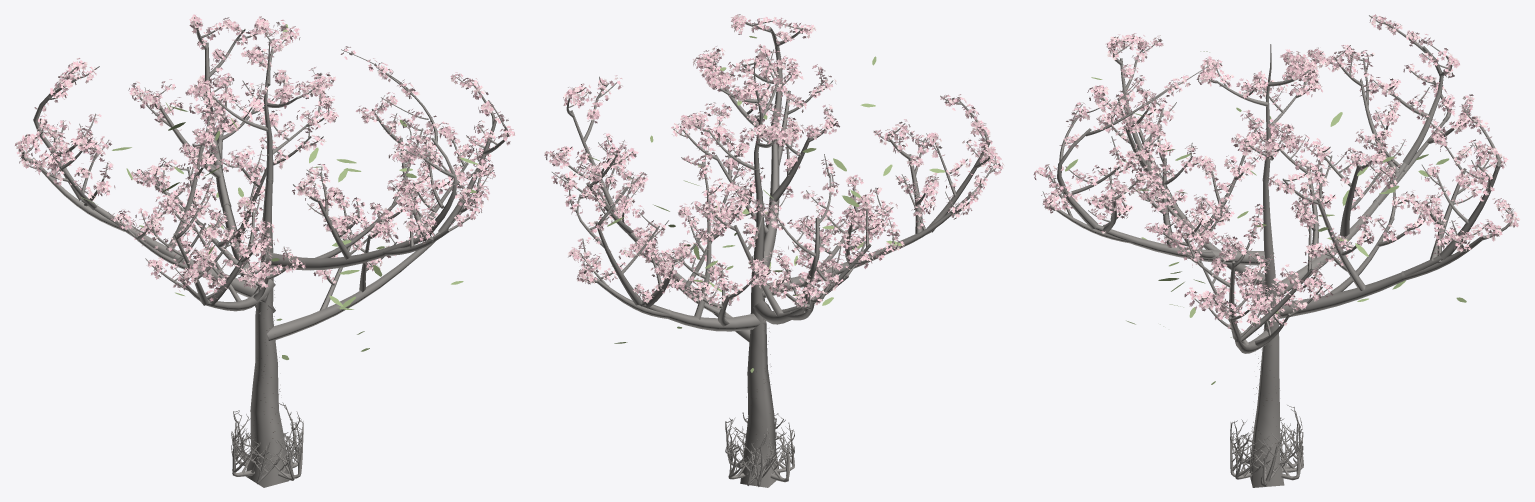
Rendered from akebono_01.glb.
The picture shows the model from 3 angles, left to right: view 1: azimuth 30°, elevation 25°; view 2: azimuth 150°, elevation 25°; view 3: azimuth 270°, elevation 25°; orthographic projection. The views are drawn at different scales.
Visible parts, largest first — view 1: Akebono_Petals_Consolidated, Akebono_Branch_Order_2, Akebono_Branch_Order_3, Akebono_Trunk_and_Scaffolds.001, Akebono_Trunk_and_Scaffolds, Akebono_Branch_Order_4; view 2: Akebono_Petals_Consolidated, Akebono_Branch_Order_2, Akebono_Branch_Order_3, Akebono_Trunk_and_Scaffolds, Akebono_Trunk_and_Scaffolds.001, Akebono_Branch_Order_4; view 3: Akebono_Petals_Consolidated, Akebono_Branch_Order_2, Akebono_Branch_Order_3, Akebono_Trunk_and_Scaffolds.001, Akebono_Branch_Order_4, Akebono_Trunk_and_Scaffolds.
Part boxes in pixels (box(x1,y1,x2,y2)): Akebono_Petals_Consolidated: box(15, 14, 514, 301); Akebono_Branch_Order_2: box(32, 42, 496, 483); Akebono_Branch_Order_3: box(21, 27, 508, 473); Akebono_Trunk_and_Scaffolds.001: box(81, 41, 440, 484); Akebono_Trunk_and_Scaffolds: box(246, 179, 289, 487); Akebono_Branch_Order_4: box(22, 17, 509, 469); Akebono_Petals_Consolidated: box(544, 14, 1004, 308); Akebono_Branch_Order_2: box(570, 27, 989, 484); Akebono_Branch_Order_3: box(556, 22, 995, 474); Akebono_Trunk_and_Scaffolds: box(740, 190, 779, 487); Akebono_Trunk_and_Scaffolds.001: box(629, 61, 930, 486); Akebono_Branch_Order_4: box(550, 20, 997, 468); Akebono_Petals_Consolidated: box(1033, 14, 1520, 331); Akebono_Branch_Order_2: box(1053, 46, 1500, 484); Akebono_Branch_Order_3: box(1047, 22, 1512, 474); Akebono_Trunk_and_Scaffolds.001: box(1094, 44, 1442, 486); Akebono_Branch_Order_4: box(1037, 15, 1512, 468); Akebono_Trunk_and_Scaffolds: box(1250, 179, 1284, 487).
Bounding box in the file's own units: 9.91 × 9.95 × 9.87.
